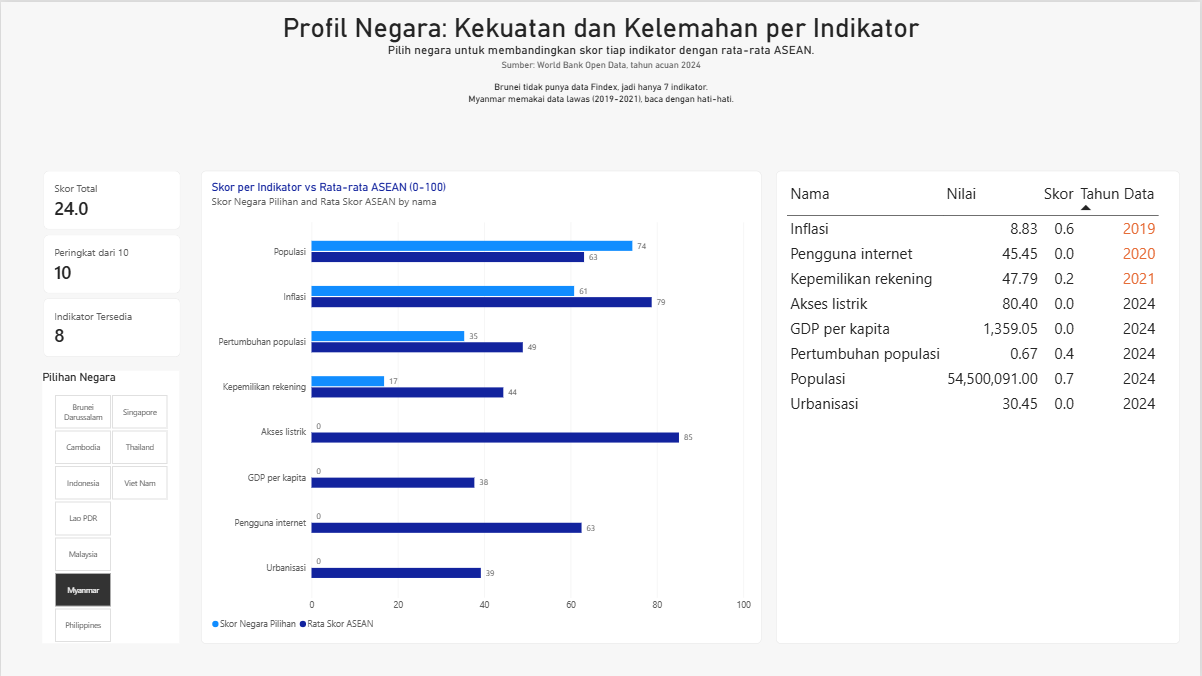

The dashboard page shown, as its layout file describes it:
{"tool":"powerbi","page":{"name":"3. Profil Negara","canvas":[1920,1080],"ordinal":2},"visuals":[{"type":"textbox","box":[0,16,1920,52],"z":0},{"type":"clusteredBarChart","title":"Skor per Indikator vs Rata-rata ASEAN (0-100)","fields":{"Category":["bobot.nama"],"Y":["skor_negara.Skor Negara Pilihan","skor_negara.Rata Skor ASEAN"]},"box":[319.8,270,896.9,756.7],"z":0,"group":"g2"},{"type":"textbox","box":[0,90,1920,24],"z":1000},{"type":"group","id":"g1","title":"Group 1","box":[66.7,270.5,220.6,755.5],"z":1000,"group":"g2"},{"type":"textbox","box":[398,126,1124,46],"z":2000},{"type":"textbox","box":[0,66.8,1920,24],"z":3000},{"type":"slicer","title":"Pilihan Negara","fields":{"Values":["skor_negara.negara_nama"]},"box":[66.7,590.2,219.4,435.9],"z":4000,"group":"g1"},{"type":"cardVisual","fields":{"Data":["Sum(skor_negara.skor_total)","Sum(skor_negara.peringkat)","Sum(skor_negara.indikator_tersedia)"]},"box":[69.1,270.5,219.4,299.7],"z":5000,"group":"g1"},{"type":"group","id":"g2","title":"Group 2","box":[66.7,270,1150,756.7],"z":6002},{"type":"tableEx","fields":{"Values":["bobot.nama","skor_indikator.nilai","skor_indikator.skor","skor_indikator.tahun_data"]},"box":[1240,270,646.7,756.7],"z":6003}]}

Visuals, with their boxes in screenshot pixels (x1, y1, x2, y2), scaled from the page's 1920x1080 canvas onto the 1202x676 screenshot:
textbox: x1=0, y1=10, x2=1201, y2=43
"Skor per Indikator vs Rata-rata ASEAN (0-100)" clusteredBarChart: x1=200, y1=169, x2=762, y2=643
textbox: x1=0, y1=56, x2=1201, y2=71
"Group 1" group: x1=42, y1=169, x2=180, y2=642
textbox: x1=249, y1=79, x2=953, y2=108
textbox: x1=0, y1=42, x2=1201, y2=57
"Pilihan Negara" slicer: x1=42, y1=369, x2=179, y2=642
cardVisual - Sum(skor_negara.skor_total) x Sum(skor_negara.peringkat): x1=43, y1=169, x2=181, y2=357
"Group 2" group: x1=42, y1=169, x2=762, y2=643
tableEx - bobot.nama x skor_indikator.nilai: x1=776, y1=169, x2=1181, y2=643
